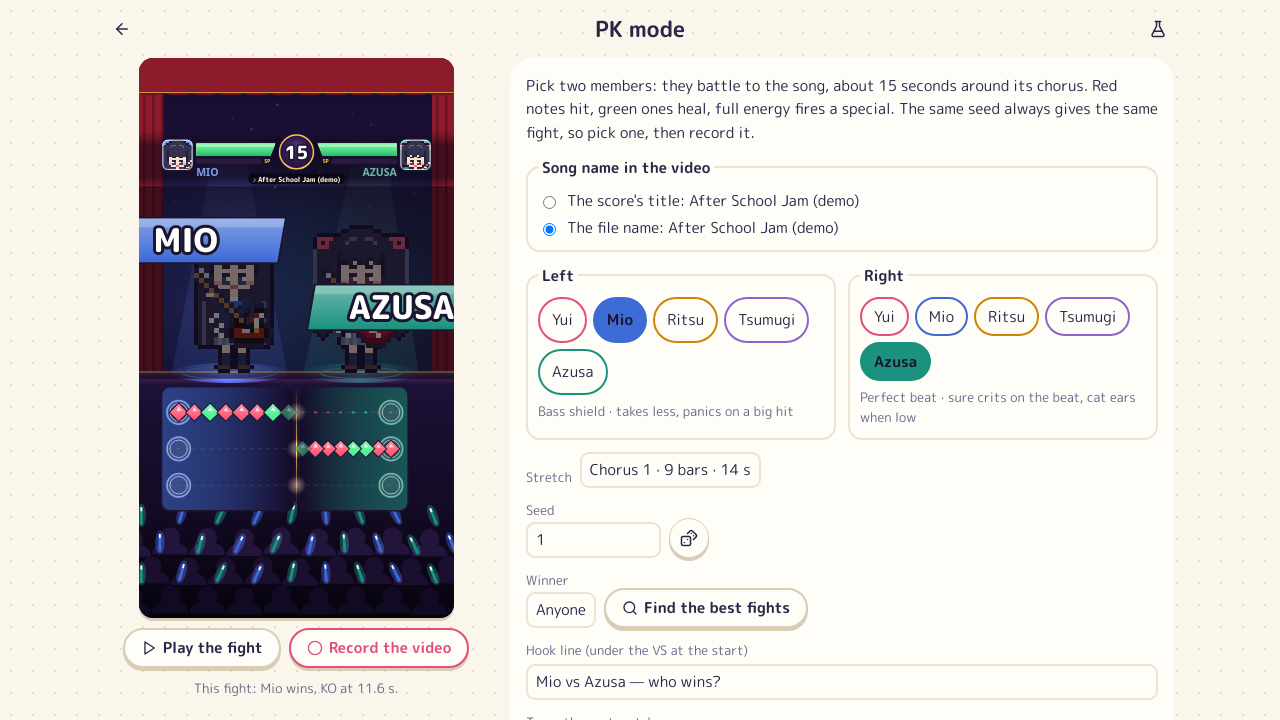
Test: PK page › asks for two different members
Click the button "Mio" below "Right": (942, 316) [915, 297, 968, 336]
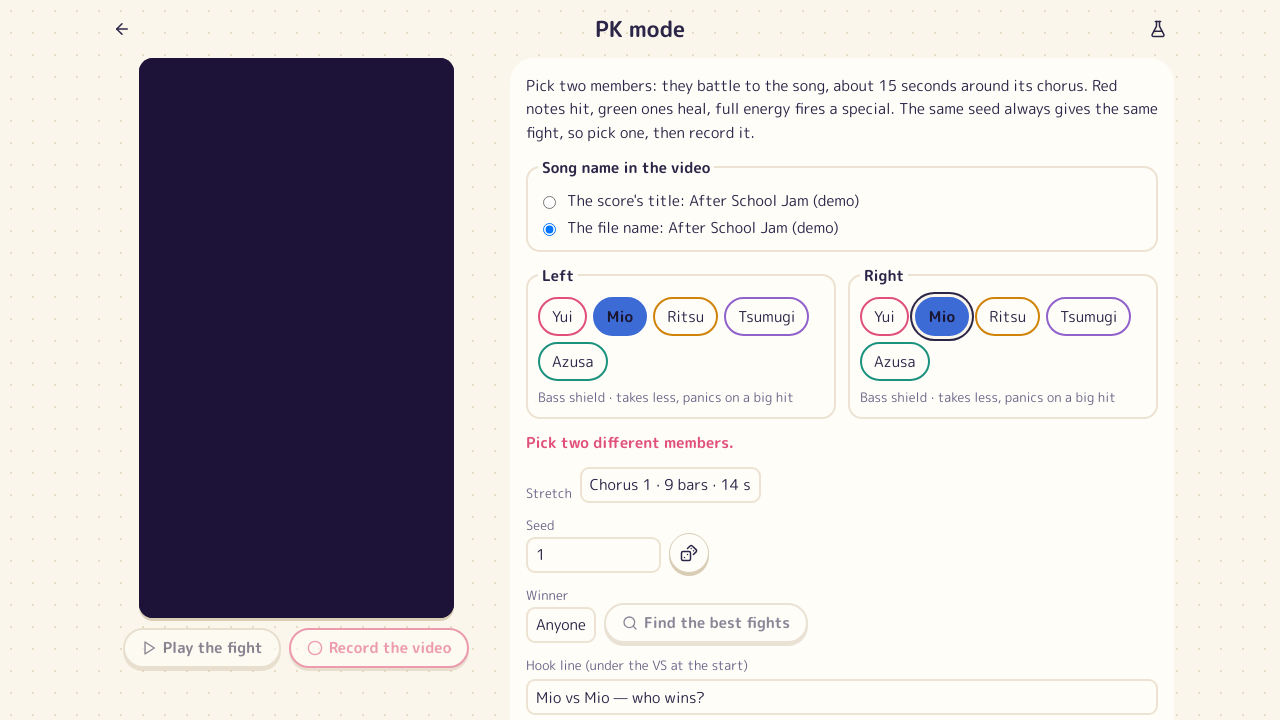
Expected: the text "Pick two different members." is shown, [526, 432, 734, 454]
Expected: the button "Record the video" is disabled, [289, 628, 469, 668]
